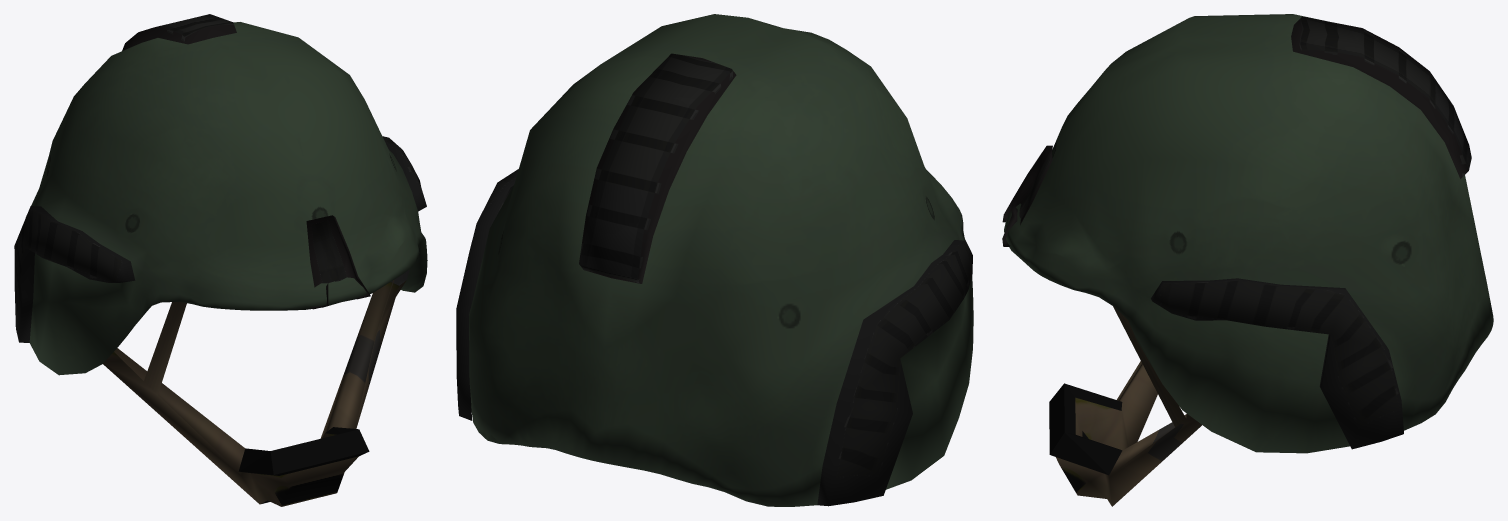
Rendered from f_TPASGT_Helmet.fbx.
The picture shows the model from 3 angles, left to right: view 1: azimuth 30°, elevation 25°; view 2: azimuth 150°, elevation 25°; view 3: azimuth 270°, elevation 25°; orthographic projection. The views are drawn at different scales.
Visible parts, largest first — view 1: TPASGT; view 2: TPASGT; view 3: TPASGT.
Boxes of the visible parts, bbox=[...] form: TPASGT: bbox=[14, 14, 427, 506]; TPASGT: bbox=[456, 14, 973, 506]; TPASGT: bbox=[1002, 14, 1493, 506].
Bounding box in the file's own units: 0.1849 × 0.1909 × 0.1789.
